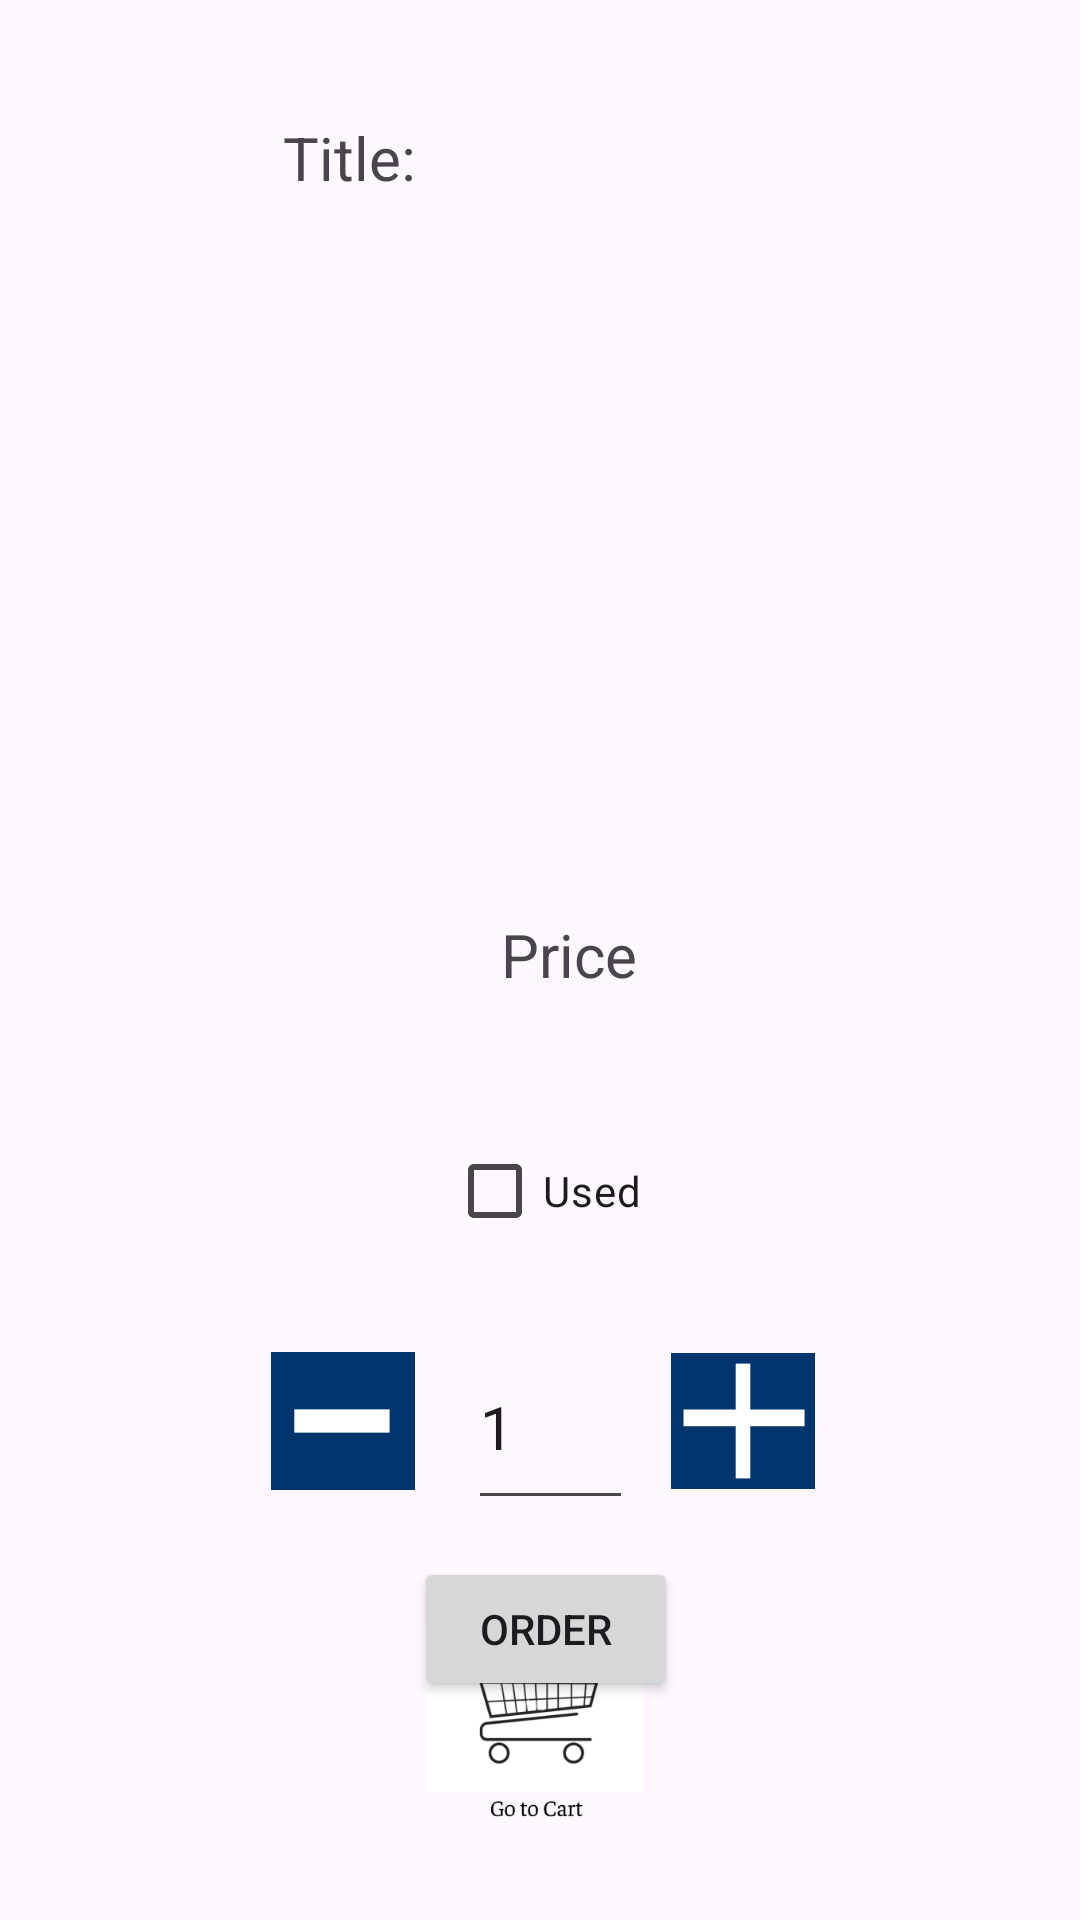

Where to tap for icons on this 1080w x 1920h app screen, as (x,y):
addquantity: (743,1421)
Decrease quantity: (343,1421)
